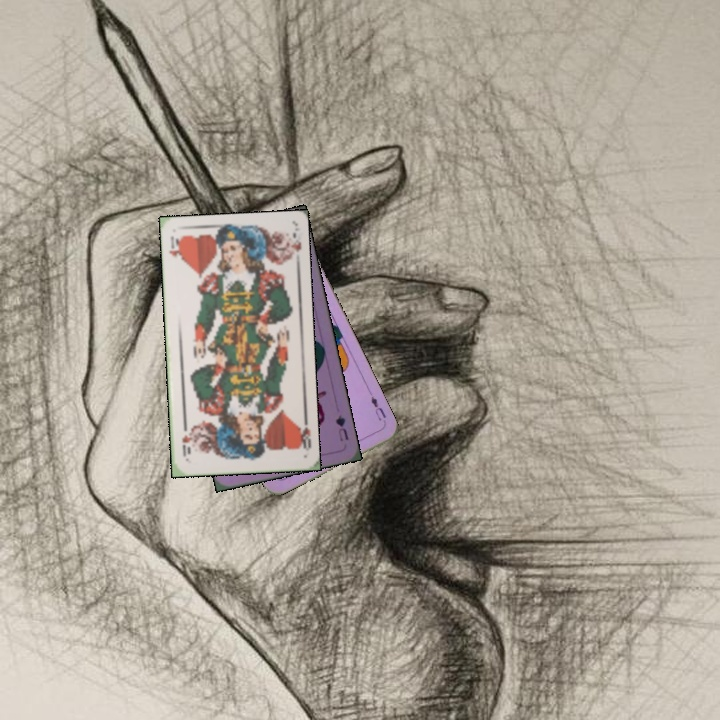EU: (366, 389, 389, 427)
GU: (331, 411, 351, 444)
HO: (294, 414, 314, 453), (165, 232, 184, 262)
